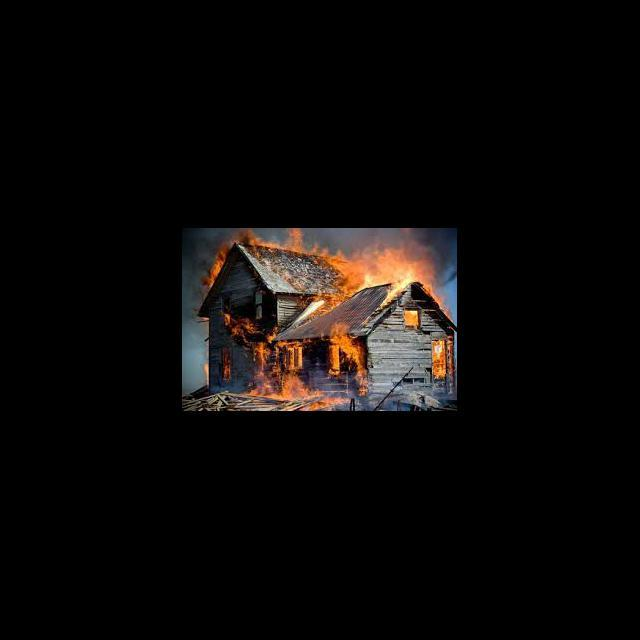Fire: (337, 244, 436, 284), (245, 230, 336, 258), (273, 341, 310, 402), (328, 329, 367, 377), (301, 288, 343, 318), (197, 248, 224, 293), (256, 343, 272, 400), (432, 338, 448, 381), (312, 396, 348, 412), (233, 318, 252, 345), (383, 284, 408, 302), (222, 346, 232, 382), (404, 311, 420, 327), (204, 360, 212, 390), (265, 329, 280, 344), (223, 313, 231, 325), (200, 314, 210, 320)
